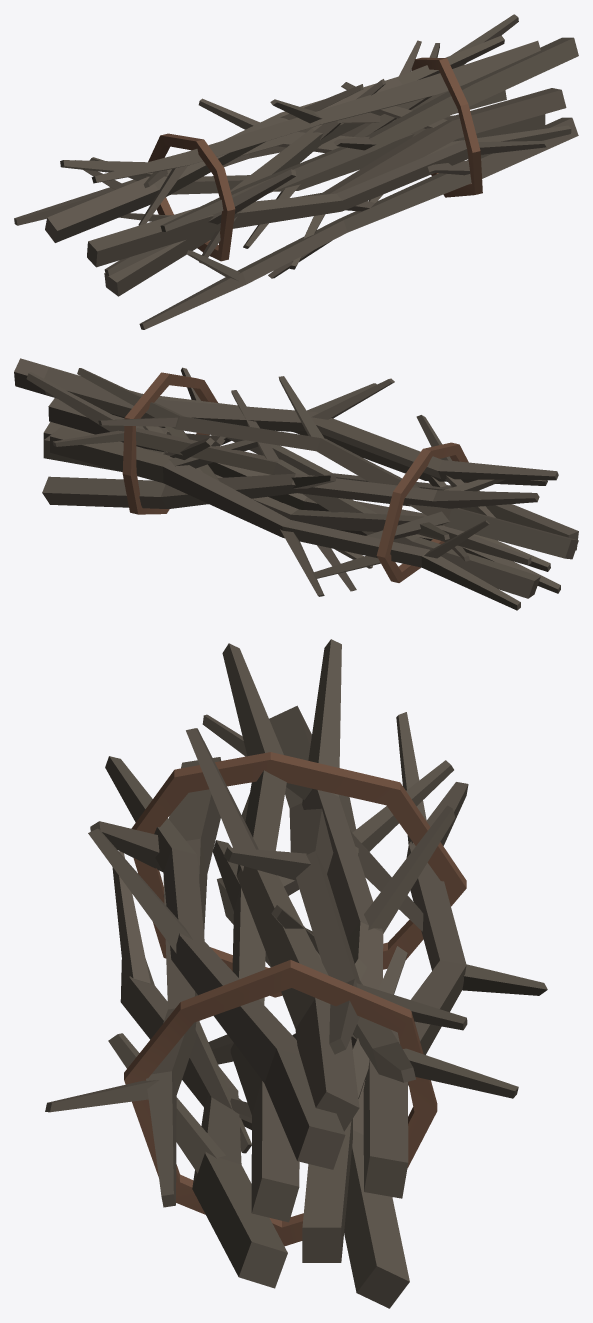
File: SM_Prop_Stick_Bundle_01.fbx
3 views of the same model, one above another, from view 1: azimuth 30°, elevation 25°; view 2: azimuth 150°, elevation 25°; view 3: azimuth 270°, elevation 25° (orthographic). The views are drawn at different scales.
Visible parts, largest first — view 1: SM_Prop_Stick_Bundle_01; view 2: SM_Prop_Stick_Bundle_01; view 3: SM_Prop_Stick_Bundle_01.
Boxes of the visible parts, box(x1,y1,x2,y2) form: SM_Prop_Stick_Bundle_01: box(14, 14, 578, 329); SM_Prop_Stick_Bundle_01: box(14, 358, 578, 610); SM_Prop_Stick_Bundle_01: box(45, 639, 547, 1308).
Bounding box in the file's own units: 172 × 60.57 × 70.25.
Materials: 1 (1 with a texture image).
